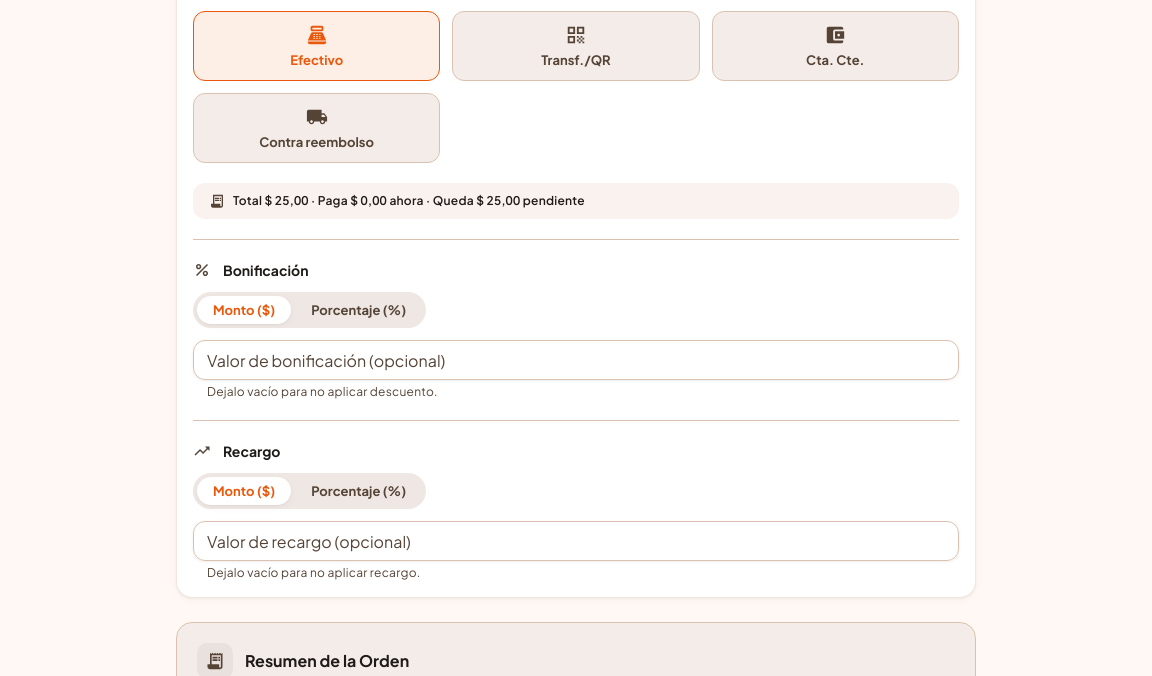
Test: NewOrderPage — order-level bonification › blocks submit while the amount exceeds the subtotal
Earlier steps of the test are not shown.
Later steps or results of the test are not shown.
(page scrolled)
Type "30" into the number field labelled "Valor de bonificación (opcional)". click: point(576, 360)
box: [193,340,959,380]
(page scrolled)
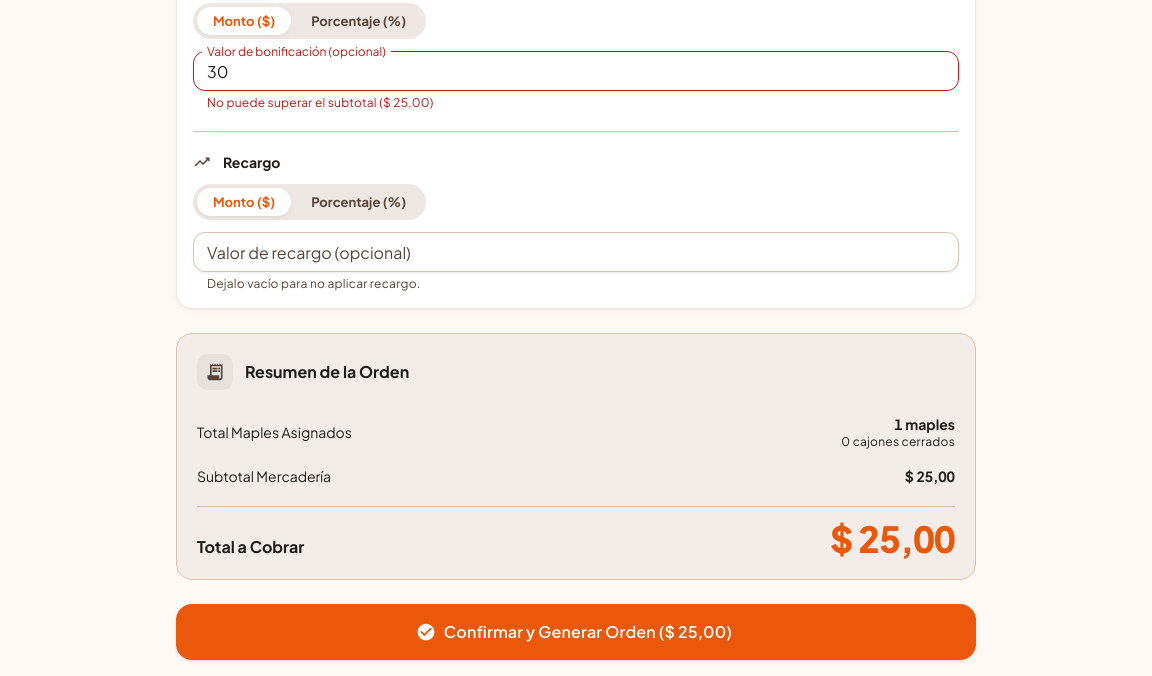
Now the text "No puede superar el subtotal ($ 25,00)" is shown, box [207,95,434,110]
